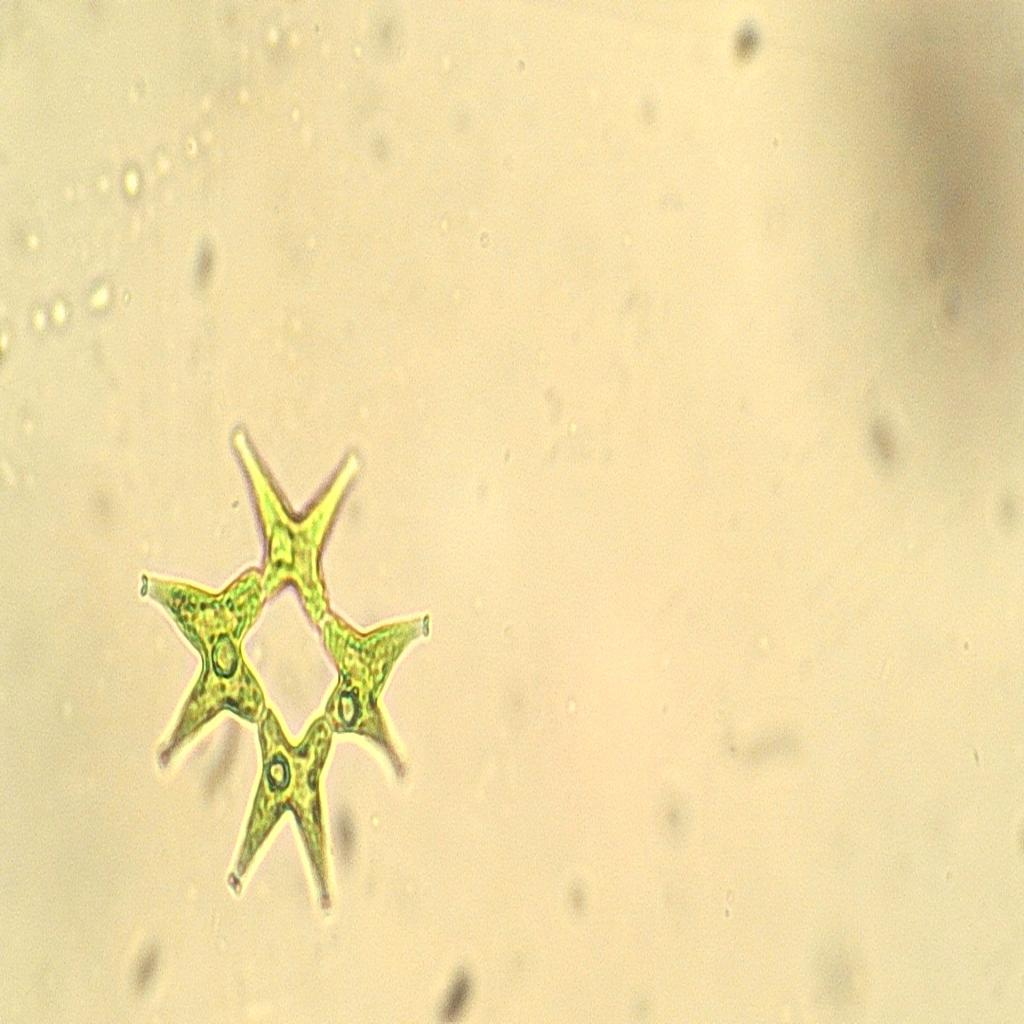Pediastrum_75O: (116, 386, 457, 956)
